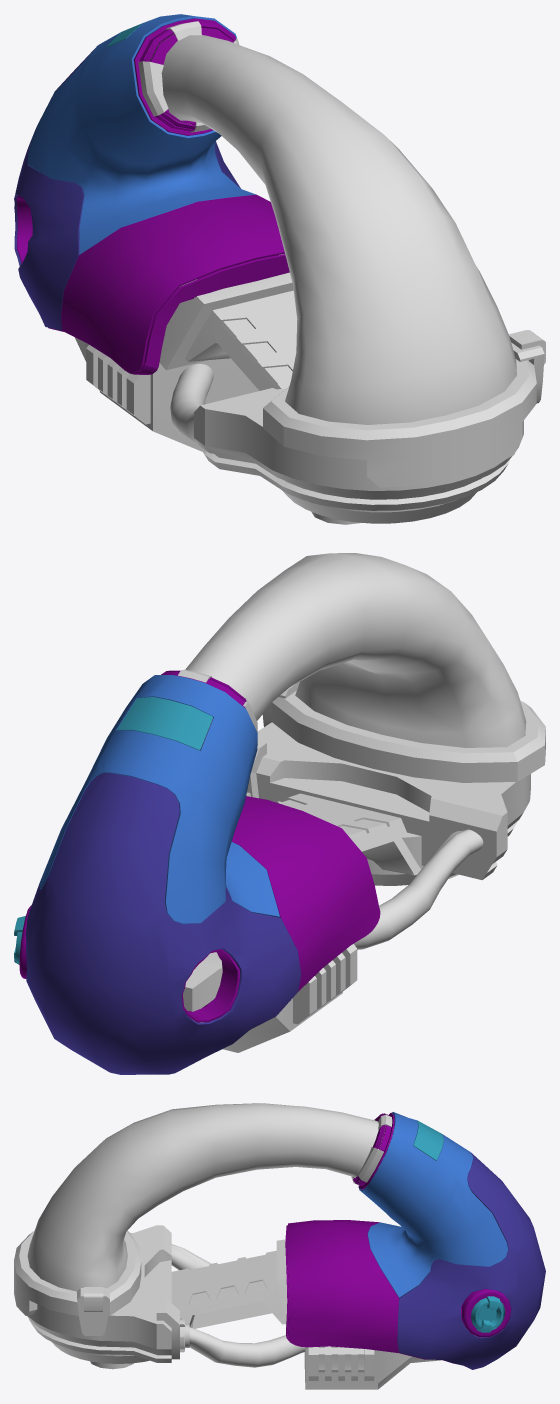
The model's file is mixerUVUnwrapped.fbx.
3 renders of one model, top to bottom at view 1: azimuth 30°, elevation 25°; view 2: azimuth 150°, elevation 25°; view 3: azimuth 270°, elevation 25°, orthographic. The views are drawn at different scales.
Parts seen in each view (by area): view 1: Cube.019, Cube.012_Plate, Cube.019_Piece.002, Cylinder.008_Piece.001, Cube.012_Plate_Piece.001, Cube.012_Plate_Piece.001_Piece, Cube.012_Plate_Piece.001_Piece_Piece, Cylinder.008, Cylinder.014, Cube.012_Plate_Piece.002, Cube.019_Piece.002_Piece; view 2: Cube.012_Plate, Cube.019, Cylinder.008_Piece.001, Cube.019_Piece.002, Cylinder.014, Cube.012_Plate_Piece.001, Cube.012_Plate_Piece.001_Piece, Cube.012_Plate_Piece.001_Piece_Piece, Cylinder.008, Cylinder.004; view 3: Cube.012_Plate, Cube.019, Cylinder.008_Piece.001, Cube.012_Plate_Piece.001, Cube.019_Piece.002, Cylinder.014, Cube.012_Plate_Piece.001_Piece, Cube.012_Plate_Piece.001_Piece_Piece, Cylinder.004, Cube.019_Piece.002_Piece, Cylinder.008_Piece.001_Piece, Cylinder.008 (+1 smaller).
Part boxes in pixels (box(x1,y1,x2,y2)): Cube.019: box(134, 35, 516, 424); Cube.012_Plate: box(14, 14, 289, 374); Cube.019_Piece.002: box(263, 359, 536, 487); Cylinder.008_Piece.001: box(194, 388, 523, 510); Cube.012_Plate_Piece.001: box(159, 254, 297, 390); Cube.012_Plate_Piece.001_Piece: box(75, 337, 258, 451); Cube.012_Plate_Piece.001_Piece_Piece: box(86, 344, 150, 424); Cylinder.008: box(282, 490, 476, 523); Cylinder.014: box(170, 364, 213, 442); Cube.012_Plate_Piece.002: box(138, 21, 239, 132); Cube.019_Piece.002_Piece: box(509, 330, 545, 403); Cube.012_Plate: box(25, 670, 380, 1074); Cube.019: box(185, 553, 526, 747); Cylinder.008_Piece.001: box(256, 722, 530, 879); Cube.019_Piece.002: box(271, 690, 545, 782); Cylinder.014: box(354, 829, 483, 949); Cube.012_Plate_Piece.001: box(279, 793, 420, 875); Cube.012_Plate_Piece.001_Piece: box(183, 952, 342, 1052); Cube.012_Plate_Piece.001_Piece_Piece: box(293, 944, 357, 1024); Cylinder.008: box(277, 801, 456, 885); Cylinder.004: box(14, 905, 31, 978); Cube.012_Plate: box(285, 1112, 545, 1369); Cube.019: box(27, 1103, 393, 1291); Cylinder.008_Piece.001: box(27, 1225, 171, 1362); Cube.012_Plate_Piece.001: box(171, 1239, 287, 1328); Cube.019_Piece.002: box(14, 1231, 141, 1315); Cylinder.014: box(171, 1244, 305, 1367); Cube.012_Plate_Piece.001_Piece: box(304, 1346, 441, 1389); Cube.012_Plate_Piece.001_Piece_Piece: box(308, 1346, 374, 1380); Cylinder.004: box(461, 1289, 511, 1337); Cube.019_Piece.002_Piece: box(77, 1287, 109, 1335); Cylinder.008_Piece.001_Piece: box(156, 1298, 179, 1359); Cylinder.008: box(52, 1317, 193, 1363).
Size of the model in its own units: 1.33 by 3.03 by 1.7.
